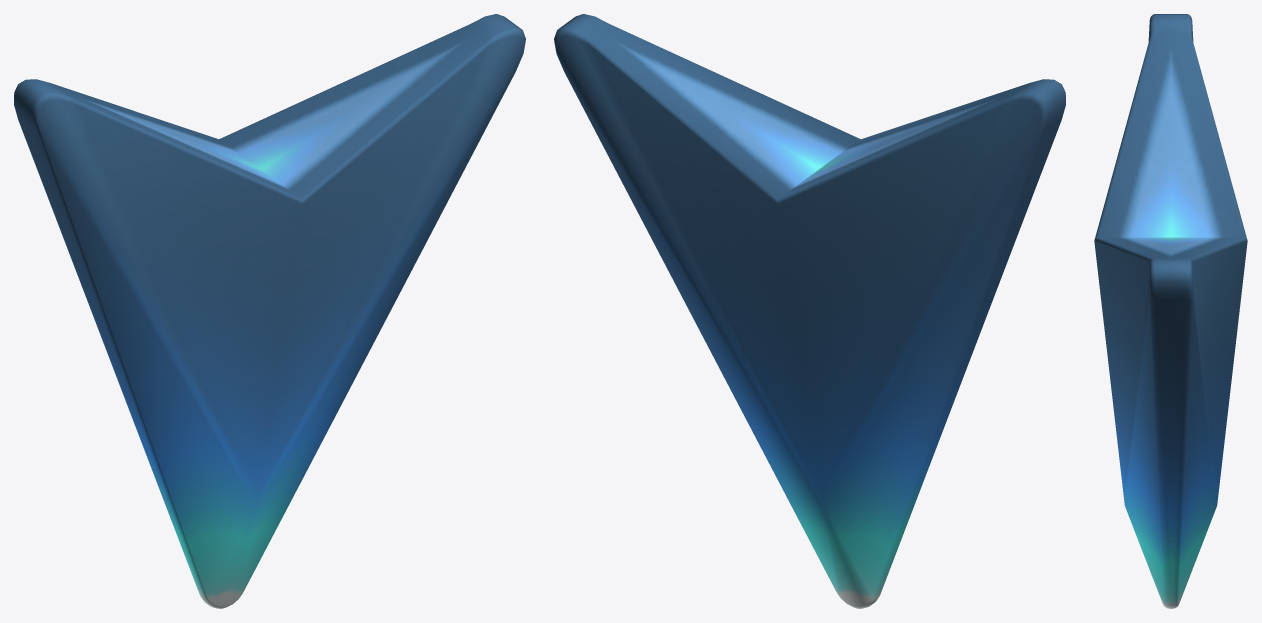
File: arrow.glb
3 views of the same model, side by side, from view 1: azimuth 30°, elevation 25°; view 2: azimuth 150°, elevation 25°; view 3: azimuth 270°, elevation 25° (orthographic). The views are drawn at different scales.
Visible parts, largest first — view 1: arrow_0; view 2: arrow_0; view 3: arrow_0.
Boxes of the visible parts, bbox=[...] form: arrow_0: bbox=[14, 14, 525, 608]; arrow_0: bbox=[554, 14, 1065, 608]; arrow_0: bbox=[1094, 14, 1247, 608].
Size of the model in its own units: 0.1467 by 0.1612 by 0.0439.
1 material, 1 textured.
